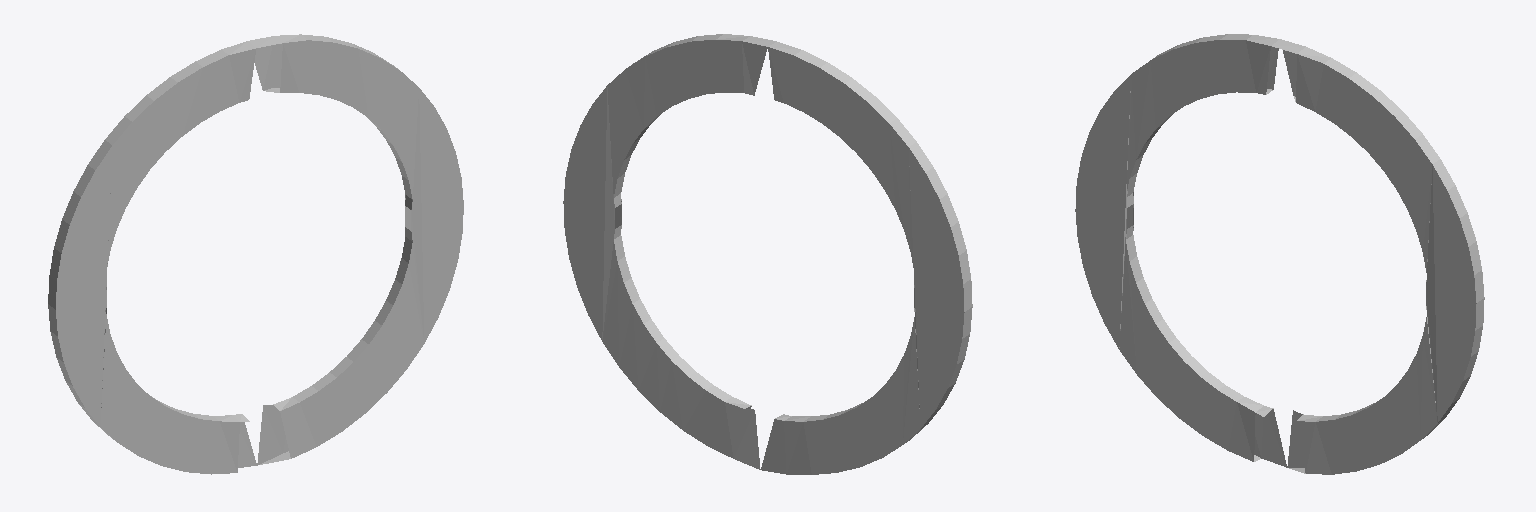
Rendered from cercle3.obj.
The picture shows the model from 3 angles: view 1: azimuth 30°, elevation 25°; view 2: azimuth 150°, elevation 25°; view 3: azimuth 330°, elevation 25°; orthographic projection.
Parts seen in each view (by area): view 1: NestedCircles; view 2: NestedCircles; view 3: NestedCircles.
Part boxes in pixels (left/top/right/bottom): NestedCircles: left=48, top=34, right=463, bottom=474; NestedCircles: left=563, top=34, right=972, bottom=474; NestedCircles: left=1075, top=34, right=1484, bottom=474.
Bounding box in the file's own units: 7.9 × 7.94 × 0.3849.